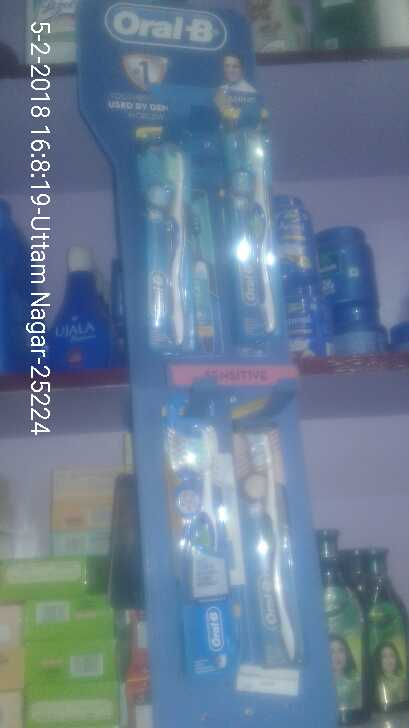oralb: (163, 415, 233, 670), (241, 425, 306, 674), (223, 132, 290, 355), (157, 143, 204, 355)
